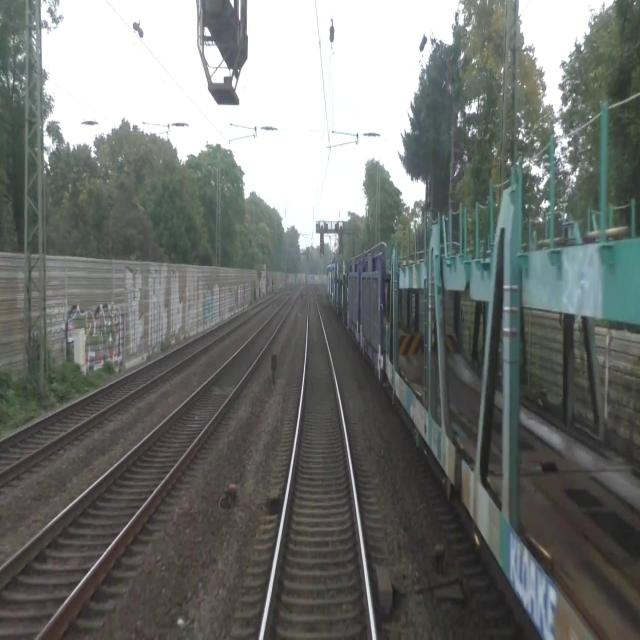rail-track: (0, 292, 296, 639), (0, 297, 273, 470), (264, 291, 371, 639)
